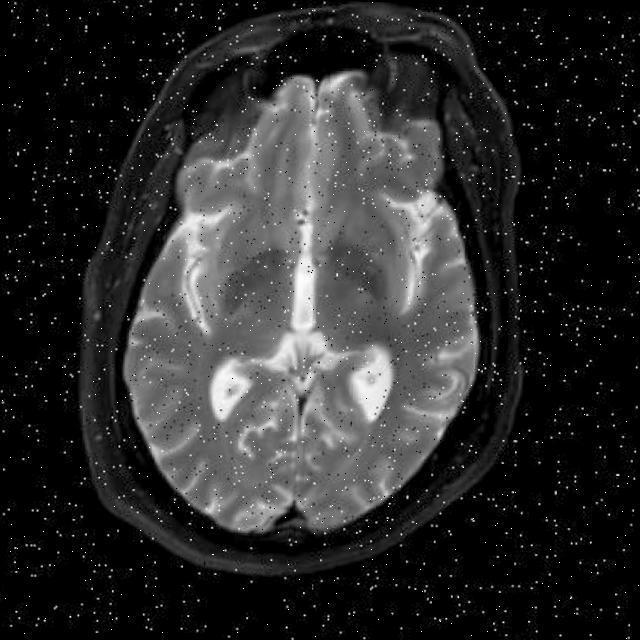MCI: (221, 236, 311, 347), (326, 223, 408, 337)
